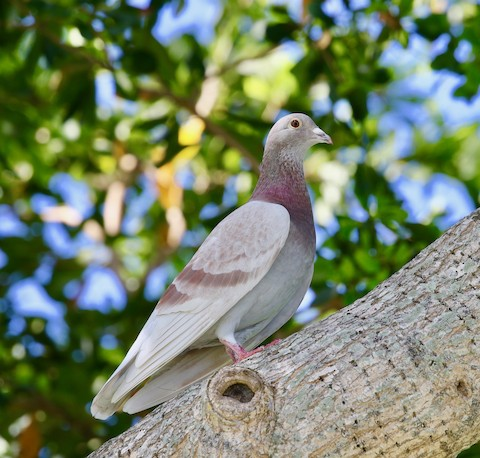pigeon: (88, 112, 338, 432)
